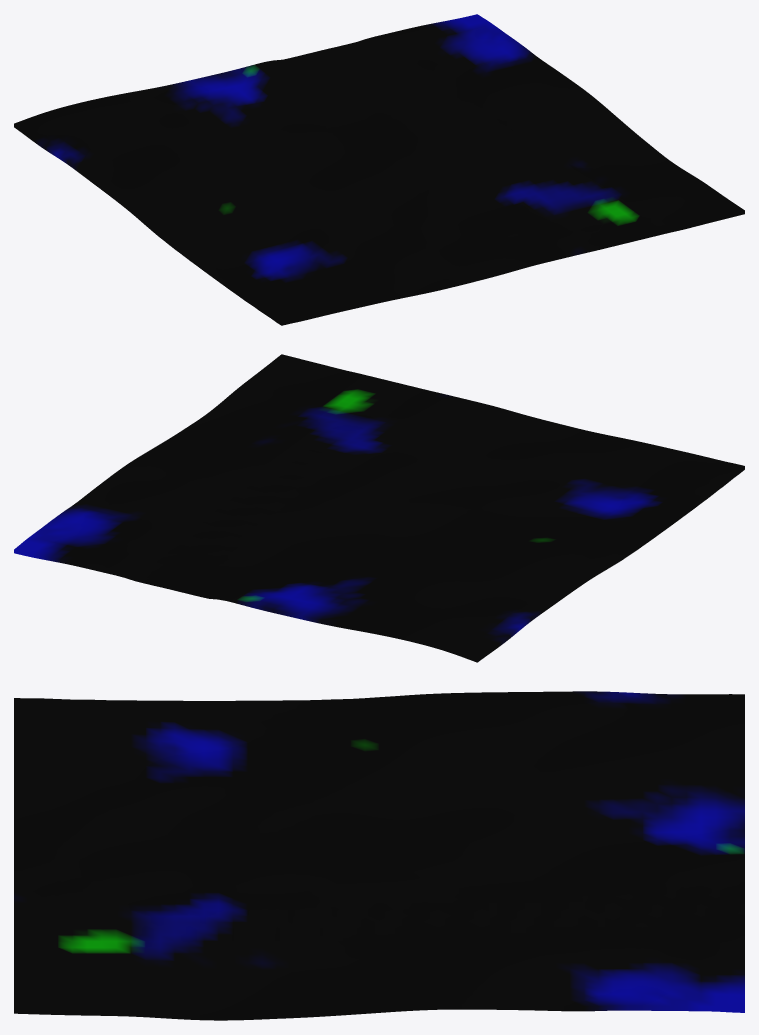
Rendered from coast_11_8.glb.
The picture shows the model from 3 angles, top to bottom: view 1: azimuth 30°, elevation 25°; view 2: azimuth 150°, elevation 25°; view 3: azimuth 270°, elevation 25°; orthographic projection. The views are drawn at different scales.
Visible parts, largest first — view 1: terrain; view 2: terrain; view 3: terrain.
Part boxes in pixels (x1=…): terrain: x1=14, y1=14, x2=744, y2=325; terrain: x1=14, y1=354, x2=744, y2=662; terrain: x1=14, y1=691, x2=744, y2=1020.
Size of the model in its own units: 200 by 7.33 by 200.
